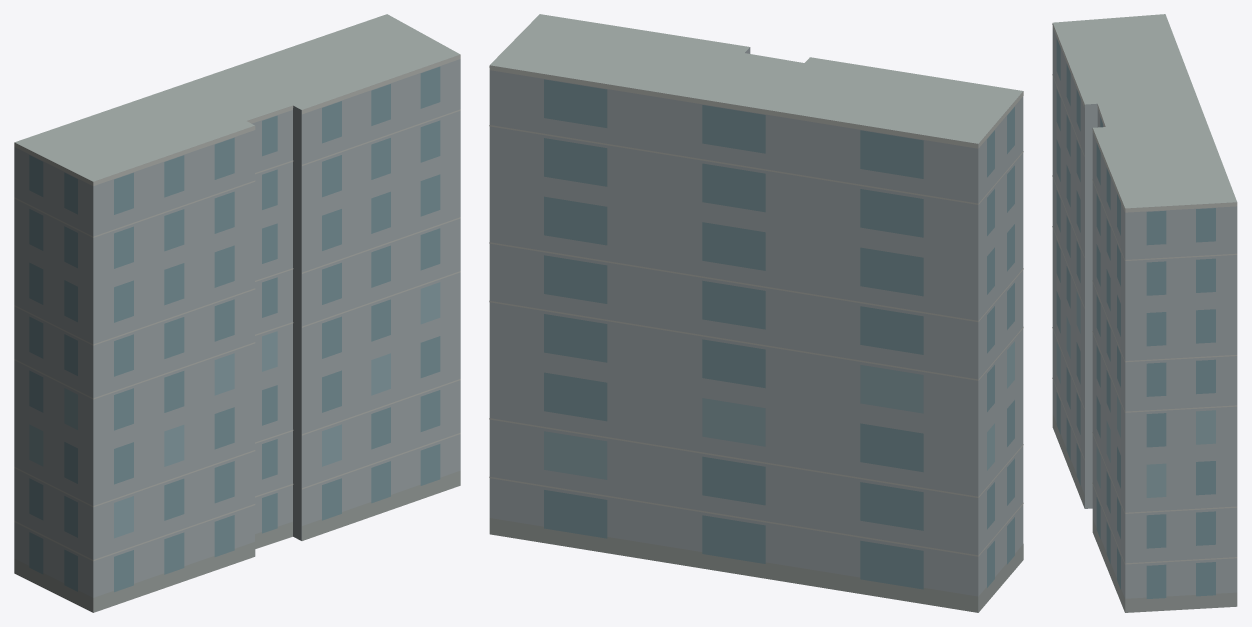
Rendered from survey-upis-32805412.glb.
The picture shows the model from 3 angles, left to right: view 1: azimuth 30°, elevation 25°; view 2: azimuth 150°, elevation 25°; view 3: azimuth 270°, elevation 25°; orthographic projection. The views are drawn at different scales.
Parts seen in each view (by area): view 1: survey-upis-32805412.tmp; view 2: survey-upis-32805412.tmp; view 3: survey-upis-32805412.tmp.
Part boxes in pixels (x1,y1,x2,y2): survey-upis-32805412.tmp: (14,14,460,612); survey-upis-32805412.tmp: (489,14,1023,612); survey-upis-32805412.tmp: (1052,14,1237,612).
Size of the model in its own units: 24.25 by 23.5 by 9.75.
